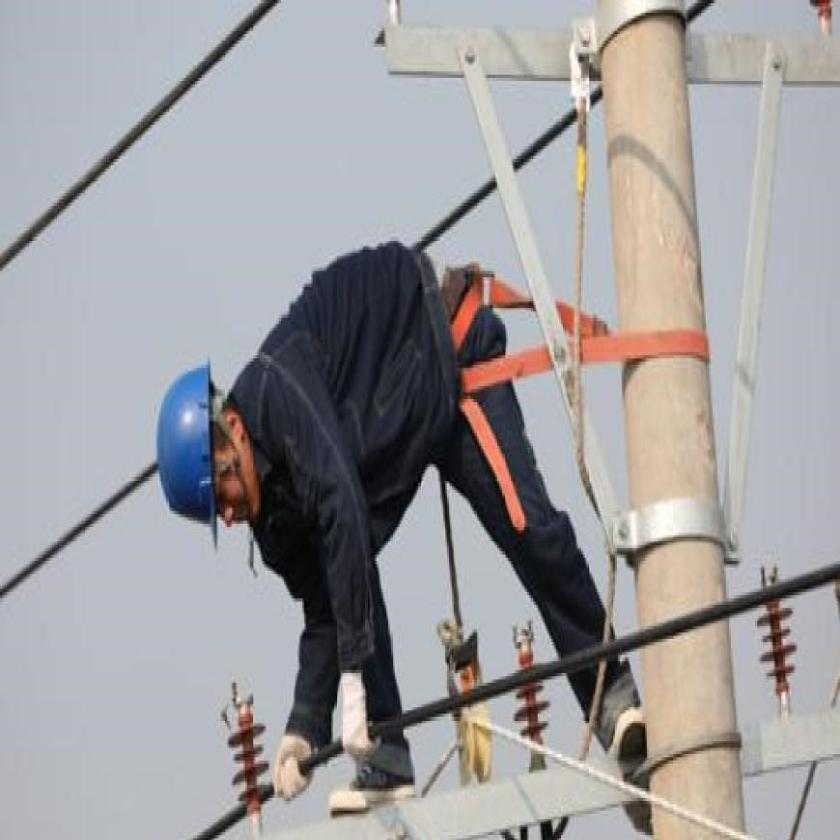Con_casco: (142, 348, 272, 581)
